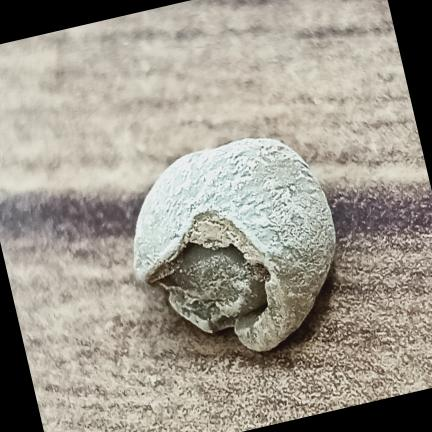broken: (134, 138, 335, 351)
